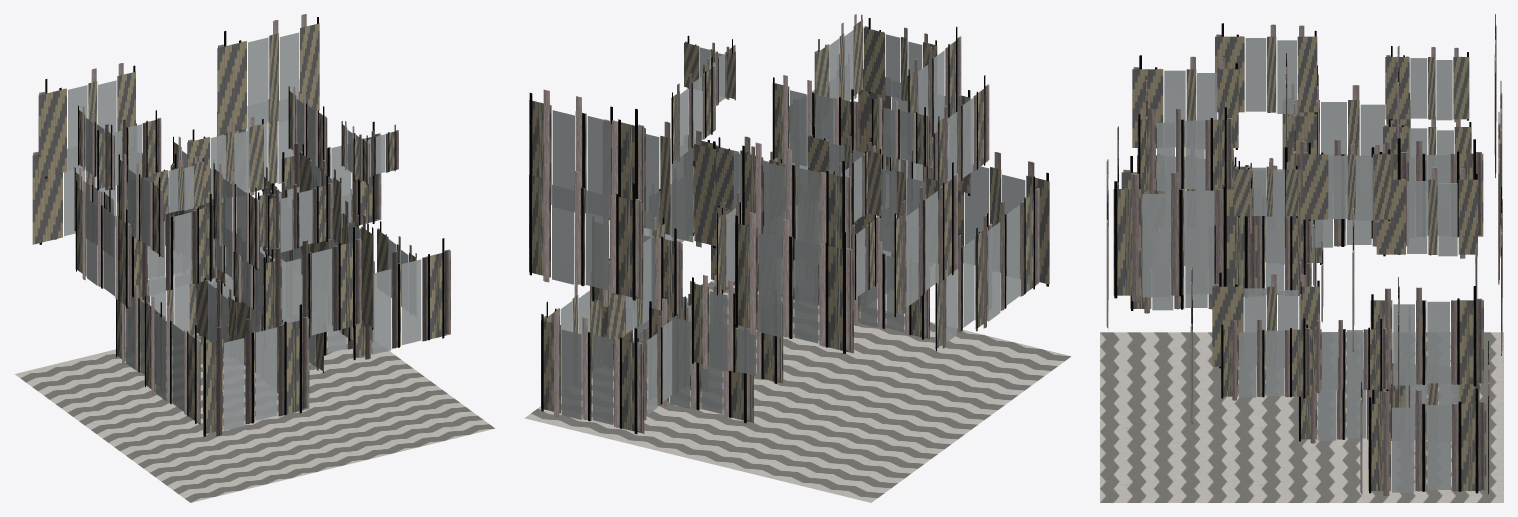
Rendered from Pav_22.glb.
The picture shows the model from 3 angles, left to right: view 1: azimuth 30°, elevation 25°; view 2: azimuth 150°, elevation 25°; view 3: azimuth 270°, elevation 25°; orthographic projection. The views are drawn at different scales.
Visible parts, largest first — view 1: Dark, Glaze, GroundPlan, Metal1, Metal2; view 2: Glaze, Dark, GroundPlan, Metal1, Metal2; view 3: Dark, Glaze, GroundPlan, Metal1, Metal2.
Part boxes in pixels (x1,y1,x2,y2): Dark: (32, 23, 450, 434); Glaze: (64, 32, 421, 430); GroundPlan: (15, 323, 494, 502); Metal1: (33, 14, 450, 436); Metal2: (39, 17, 444, 436); Glaze: (552, 30, 1025, 424); Dark: (529, 19, 1049, 433); GroundPlan: (524, 280, 1070, 502); Metal1: (543, 14, 1039, 431); Metal2: (529, 15, 1048, 434); Dark: (1108, 33, 1501, 494); Glaze: (1142, 38, 1475, 492); GroundPlan: (1100, 332, 1503, 502); Metal1: (1106, 24, 1502, 495); Metal2: (1107, 14, 1501, 493).
Size of what is drawn, in the model's own units: 16 by 14.74 by 16.
Materials: 5 (3 with a texture image).
